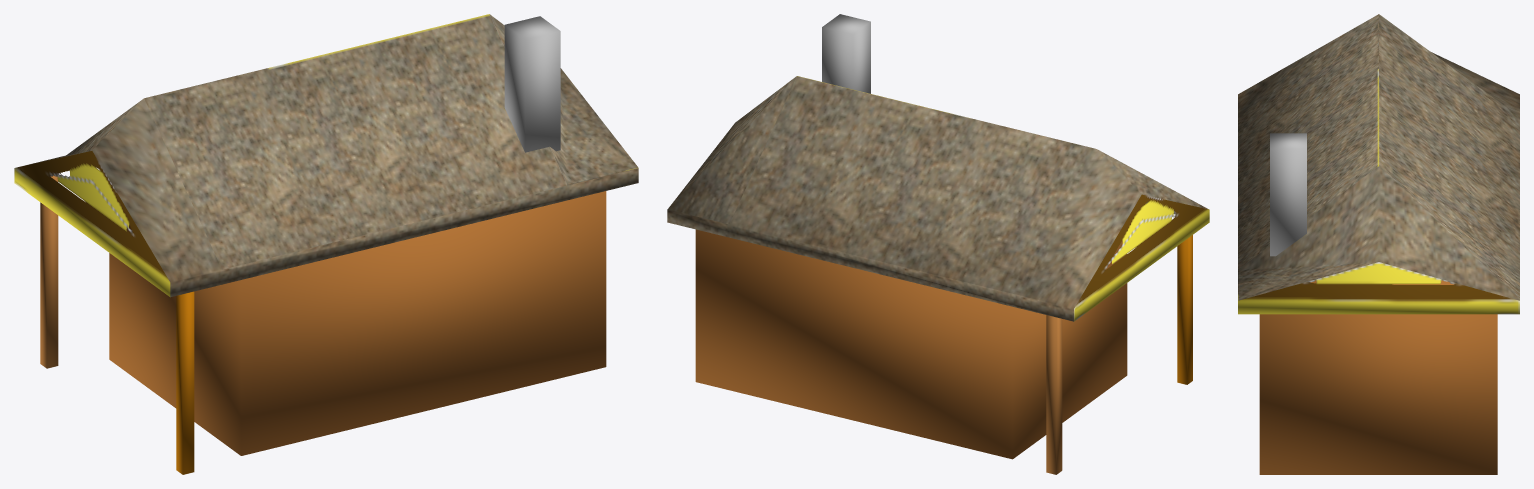
Rendered from houseA.fbx.
3 renders of one model, left to right at view 1: azimuth 30°, elevation 25°; view 2: azimuth 150°, elevation 25°; view 3: azimuth 270°, elevation 25°, orthographic. The views are drawn at different scales.
Visible parts, largest first — view 1: Cube_001, Cube, Cube_002, Cube_004, Cube_003; view 2: Cube_001, Cube, Cube_002, Cube_003, Cube_004; view 3: Cube_001, Cube, Cube_002.
Boxes of the visible parts, <box> form: Cube_001: <box>14,14,638,297</box>; Cube: <box>109,191,606,455</box>; Cube_002: <box>504,16,560,152</box>; Cube_004: <box>176,291,194,474</box>; Cube_003: <box>40,175,58,368</box>; Cube_001: <box>667,76,1209,321</box>; Cube: <box>695,229,1127,459</box>; Cube_002: <box>822,14,870,93</box>; Cube_003: <box>1046,315,1062,474</box>; Cube_004: <box>1177,235,1192,384</box>; Cube_001: <box>1238,14,1519,314</box>; Cube: <box>1259,280,1497,474</box>; Cube_002: <box>1270,133,1306,256</box>.
Bounding box in the file's own units: 17.14 × 11.94 × 9.88.
Materials: 5 (1 with a texture image).
